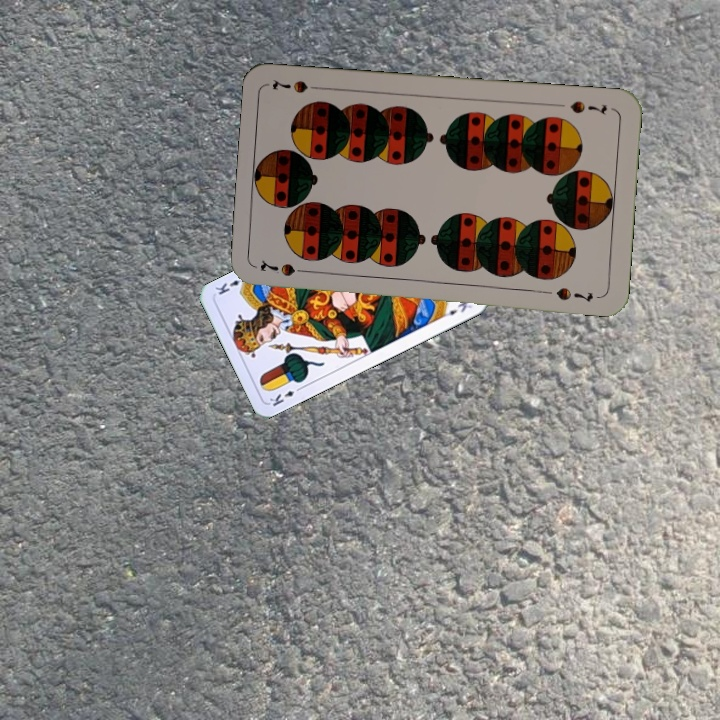EK: (265, 382, 305, 409)
S7: (256, 256, 313, 279), (566, 96, 610, 117)
